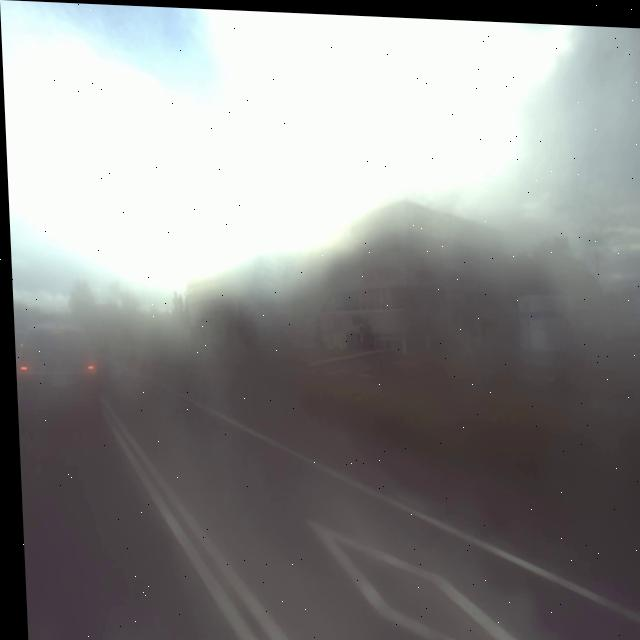car: (11, 313, 105, 422)
